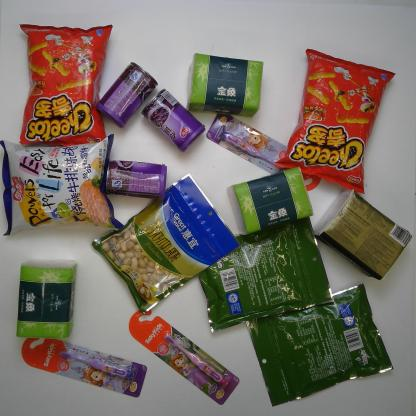Canned Food: (95, 61, 160, 130), (140, 88, 206, 154), (104, 159, 168, 200)
Dried Fruit: (89, 172, 242, 316), (246, 283, 395, 410), (198, 216, 335, 335)
Personal Hygiene: (128, 310, 240, 406), (202, 110, 326, 192), (20, 337, 148, 398)
Puffed Food: (273, 48, 397, 196), (0, 131, 124, 236), (18, 22, 118, 146)
Tissue: (312, 189, 414, 281), (226, 165, 315, 236), (184, 51, 263, 119), (16, 259, 78, 340)
